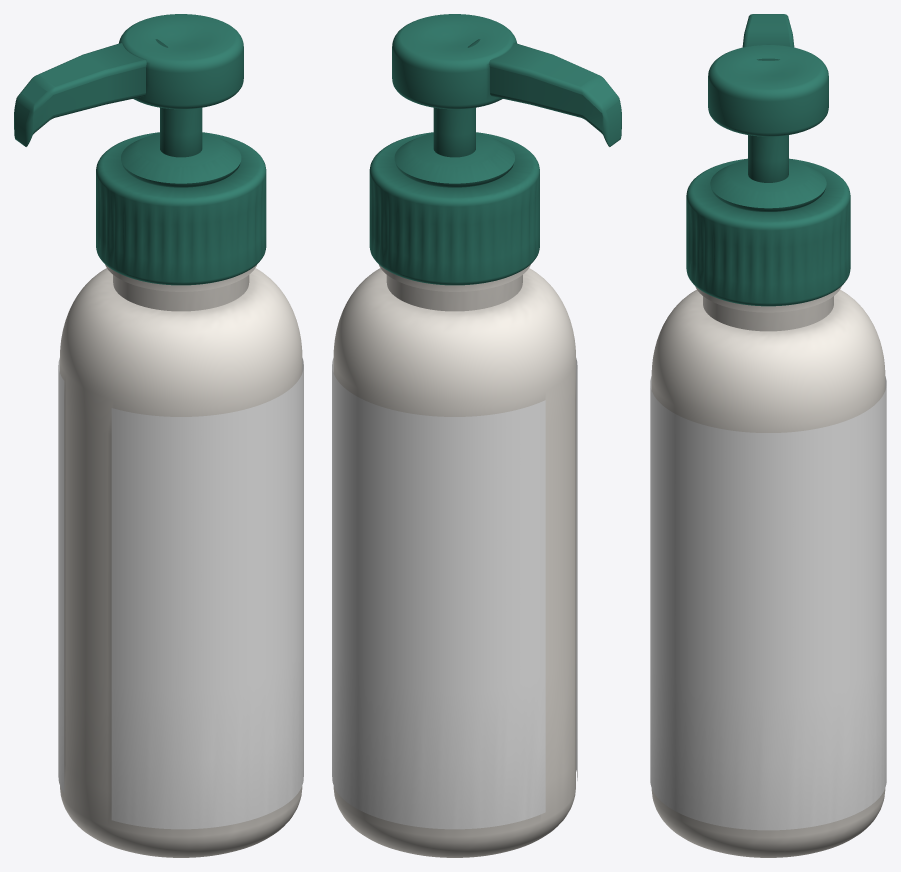
The model's file is tension.glb.
The picture shows the model from 3 angles, left to right: view 1: azimuth 30°, elevation 25°; view 2: azimuth 150°, elevation 25°; view 3: azimuth 270°, elevation 25°; orthographic projection. The views are drawn at different scales.
Parts seen in each view (by area): view 1: etiquette, corps, bague, tete, bec, tige; view 2: etiquette, corps, bague, tete, bec, tige; view 3: etiquette, corps, bague, tete, tige, bec.
Part boxes in pixels (bbox=[...]): etiquette: bbox=[58, 358, 303, 829]; corps: bbox=[60, 264, 302, 857]; bague: bbox=[96, 132, 266, 285]; tete: bbox=[119, 14, 243, 109]; bec: bbox=[14, 39, 168, 146]; tige: bbox=[160, 107, 202, 157]; etiquette: bbox=[332, 358, 577, 829]; corps: bbox=[333, 264, 575, 857]; bague: bbox=[369, 132, 539, 285]; tete: bbox=[392, 14, 516, 109]; bec: bbox=[467, 39, 621, 146]; tige: bbox=[433, 107, 475, 157]; etiquette: bbox=[650, 376, 886, 830]; corps: bbox=[651, 286, 885, 857]; bague: bbox=[686, 158, 850, 306]; tete: bbox=[708, 44, 828, 136]; tige: bbox=[748, 135, 788, 182]; bec: bbox=[742, 14, 794, 60].
Bounding box in the file's own units: 0.4067 × 1.14 × 0.3236.
